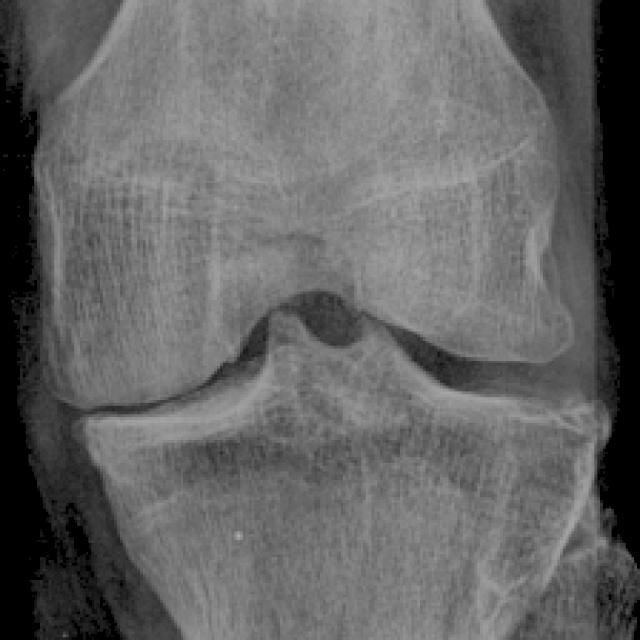femur: (33, 1, 576, 411)
tibia: (68, 310, 612, 640)
